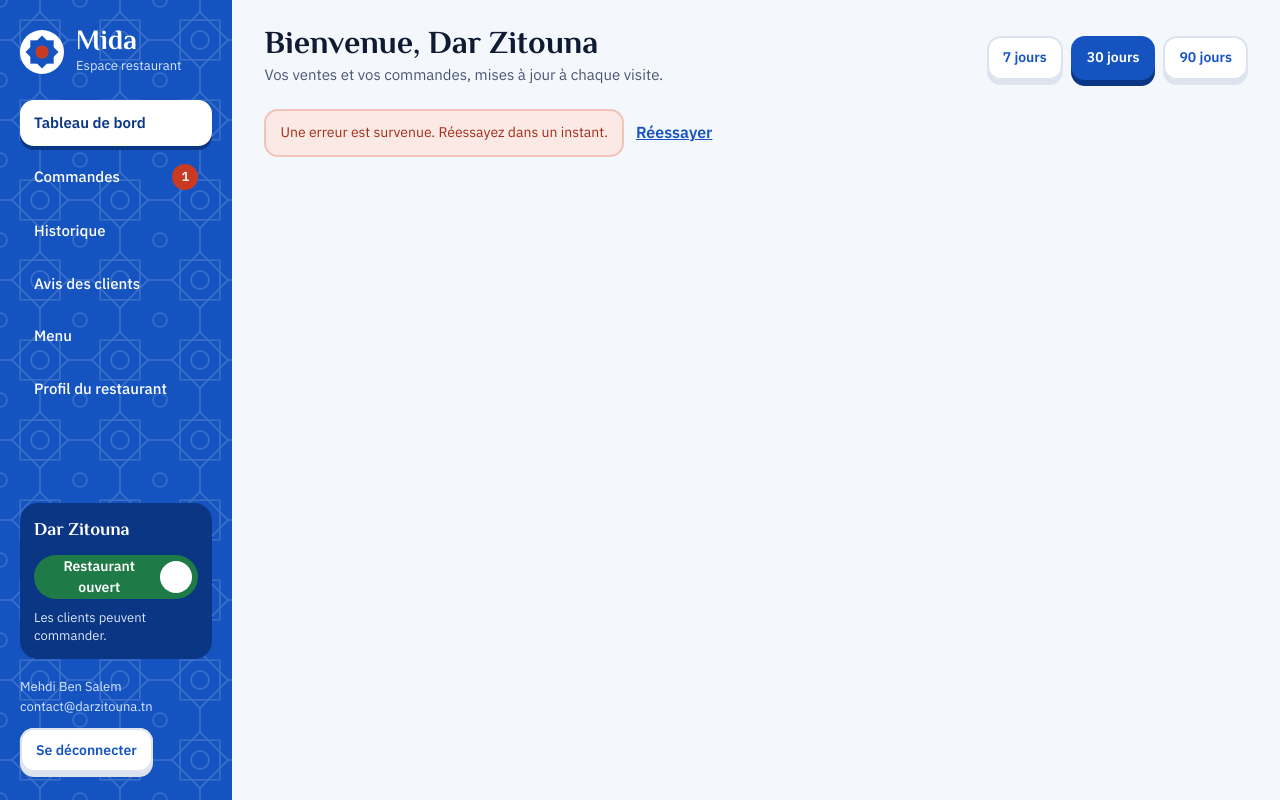
Scenario: statistiques de ventes (US44) › erreur de chargement : message et « Réessayer »
Click the button "Réessayer": (674, 133) [636,121,712,145]
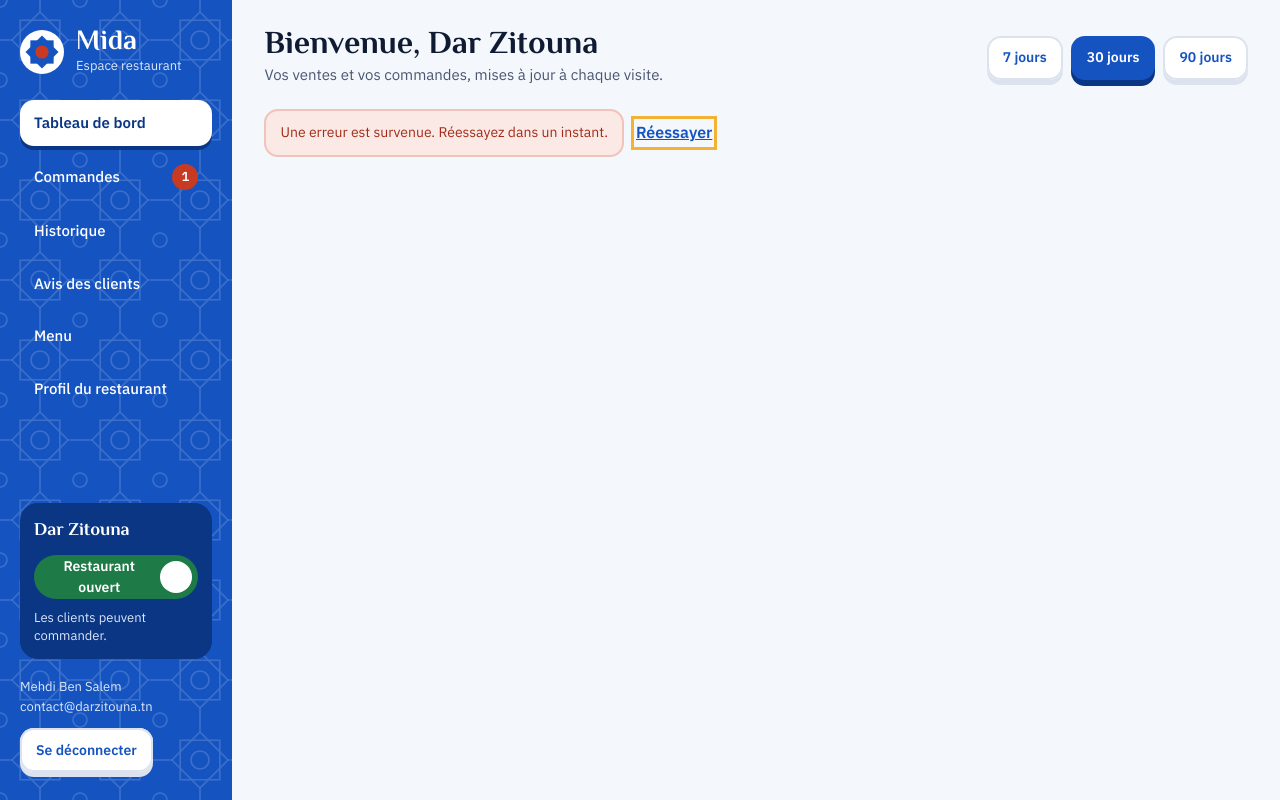
Click the button "Réessayer": (674, 133) [636,121,712,145]
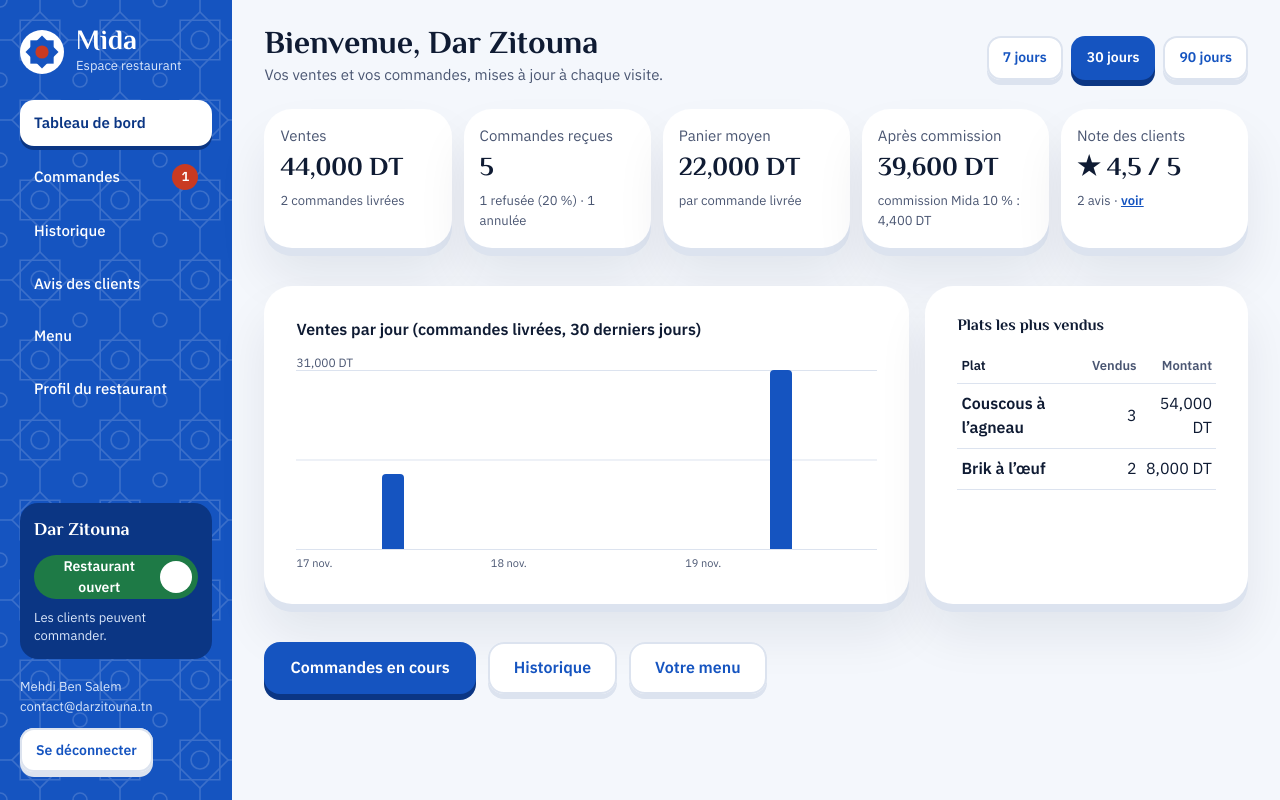
Now the text "Ventes" is shown, box [280,125,327,147]
